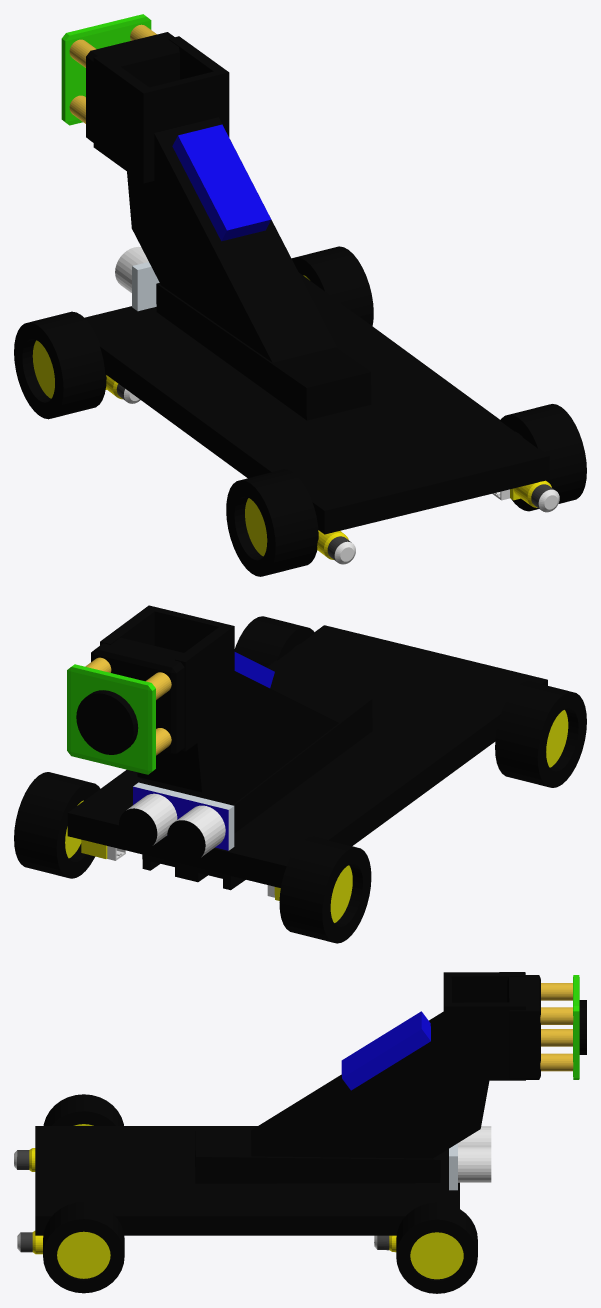
Rendered from car_with_camera.fbx.
3 renders of one model, top to bottom at view 1: azimuth 30°, elevation 25°; view 2: azimuth 150°, elevation 25°; view 3: azimuth 270°, elevation 25°, orthographic. The views are drawn at different scales.
Parts seen in each view (by area): view 1: Cube, Cube.010, Cube.009, Cube.012, 圓柱體.021, 圓柱體, Cube.011, 圓柱體.022, Cube.014, 圓柱體.019, Cube.013, 圓柱體.016 (+3 smaller); view 2: Cube, Cube.010, Cube.009, 圓柱體, 圓柱體.021, Cube.012, 圓柱體.019, Cube.013, Cube.014, 圓柱體.025, 圓柱體.022, 圓柱體.001 (+3 smaller); view 3: Cube, Cube.010, Cube.012, Cube.009, 圓柱體.019, 圓柱體.022, Cube.014, Cube.011, 圓柱體.023, 圓柱體.018, 圓柱體.021, Cube.013 (+7 smaller).
Part boxes in pixels (bbox=[...]): Cube: bbox=[84, 246, 549, 534]; Cube.010: bbox=[127, 117, 336, 362]; Cube.009: bbox=[93, 36, 229, 183]; Cube.012: bbox=[156, 283, 371, 420]; 圓柱體.021: bbox=[226, 469, 318, 576]; 圓柱體: bbox=[14, 311, 106, 419]; Cube.011: bbox=[172, 124, 271, 241]; 圓柱體.022: bbox=[500, 404, 586, 511]; Cube.014: bbox=[86, 32, 179, 142]; 圓柱體.019: bbox=[291, 246, 373, 325]; Cube.013: bbox=[61, 14, 151, 125]; 圓柱體.016: bbox=[317, 530, 355, 564]; Cube: bbox=[67, 625, 547, 887]; Cube.010: bbox=[137, 671, 338, 805]; Cube.009: bbox=[100, 605, 234, 751]; 圓柱體: bbox=[279, 836, 371, 943]; 圓柱體.021: bbox=[495, 681, 586, 787]; Cube.012: bbox=[232, 683, 372, 833]; 圓柱體.019: bbox=[14, 772, 100, 878]; Cube.013: bbox=[67, 664, 155, 774]; Cube.014: bbox=[91, 637, 184, 756]; 圓柱體.025: bbox=[76, 690, 138, 754]; 圓柱體.022: bbox=[234, 616, 314, 667]; 圓柱體.001: bbox=[330, 865, 352, 922]; Cube: bbox=[35, 1126, 491, 1235]; Cube.010: bbox=[251, 1011, 489, 1158]; Cube.012: bbox=[195, 1131, 440, 1183]; Cube.009: bbox=[443, 972, 525, 1080]; 圓柱體.019: bbox=[396, 1202, 477, 1293]; 圓柱體.022: bbox=[43, 1202, 124, 1293]; Cube.014: bbox=[507, 975, 540, 1079]; Cube.011: bbox=[341, 1011, 430, 1090]; 圓柱體.023: bbox=[57, 1231, 110, 1278]; 圓柱體.018: bbox=[410, 1232, 463, 1279]; 圓柱體.021: bbox=[43, 1094, 123, 1125]; Cube.013: bbox=[573, 975, 579, 1079].
Bounding box in the file's own units: 729 × 651 × 1403.
